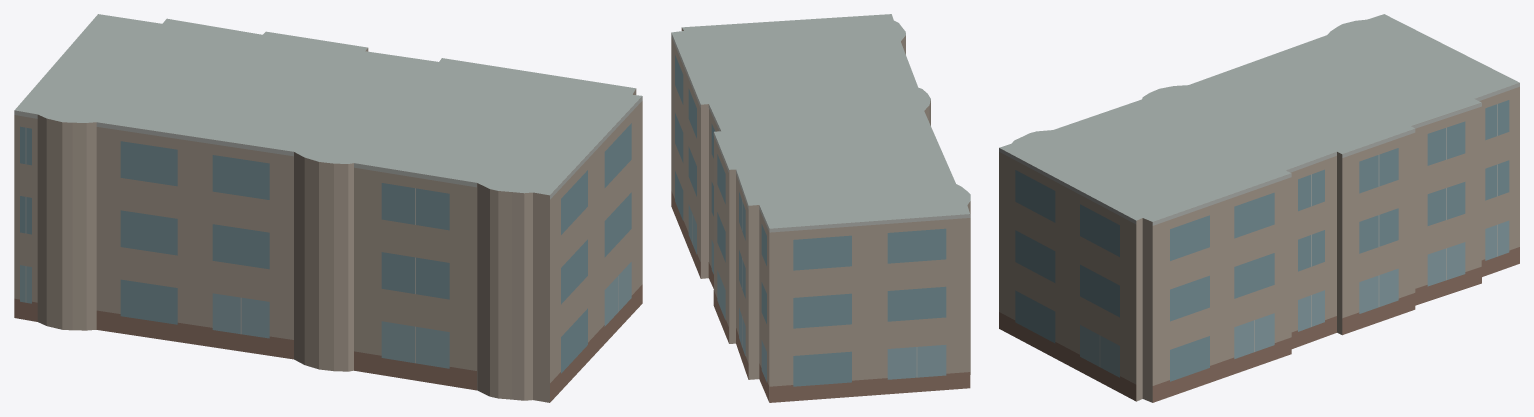
Rendered from survey-upis-32866984.glb.
3 views of the same model, side by side, from view 1: azimuth 30°, elevation 25°; view 2: azimuth 150°, elevation 25°; view 3: azimuth 270°, elevation 25° (orthographic). The views are drawn at different scales.
Parts seen in each view (by area): view 1: survey-upis-32866984.tmp; view 2: survey-upis-32866984.tmp; view 3: survey-upis-32866984.tmp.
Boxes of the visible parts, x1=… form: survey-upis-32866984.tmp: x1=14, y1=14, x2=642, y2=402; survey-upis-32866984.tmp: x1=671, y1=14, x2=970, y2=402; survey-upis-32866984.tmp: x1=999, y1=14, x2=1519, y2=402.
Bounding box in the file's own units: 27.37 × 11.1 × 28.96.
